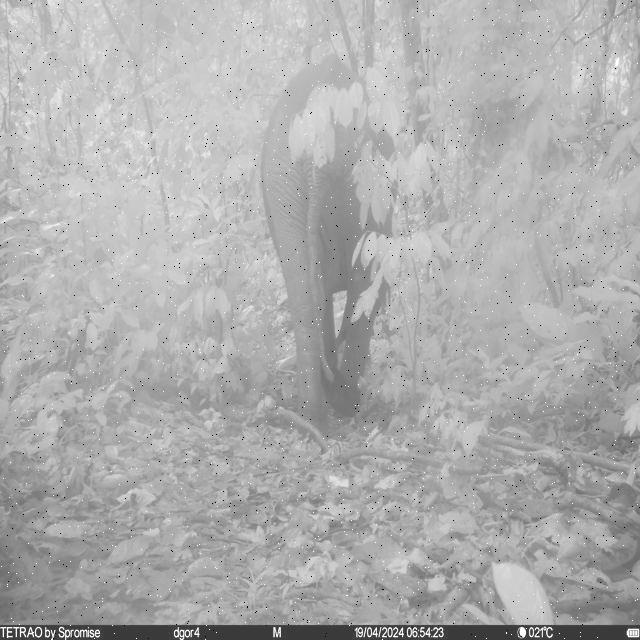elephant: (257, 58, 401, 437)
